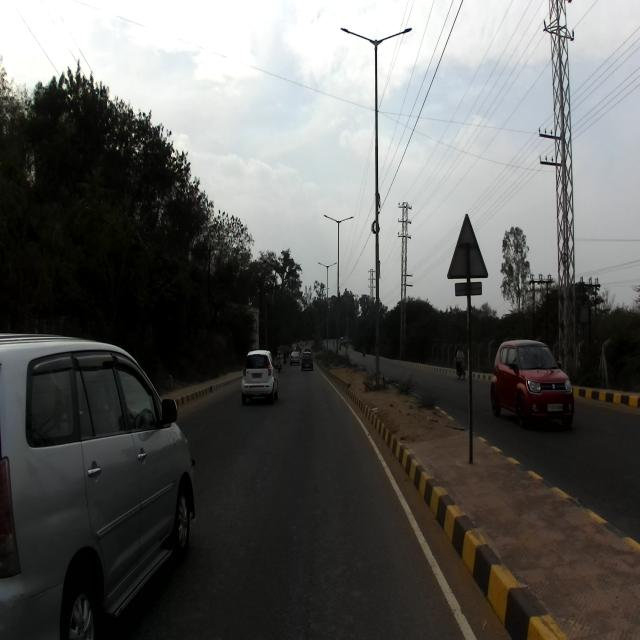car ahead at: (0, 326, 199, 640), (489, 330, 575, 431), (238, 344, 277, 411)
